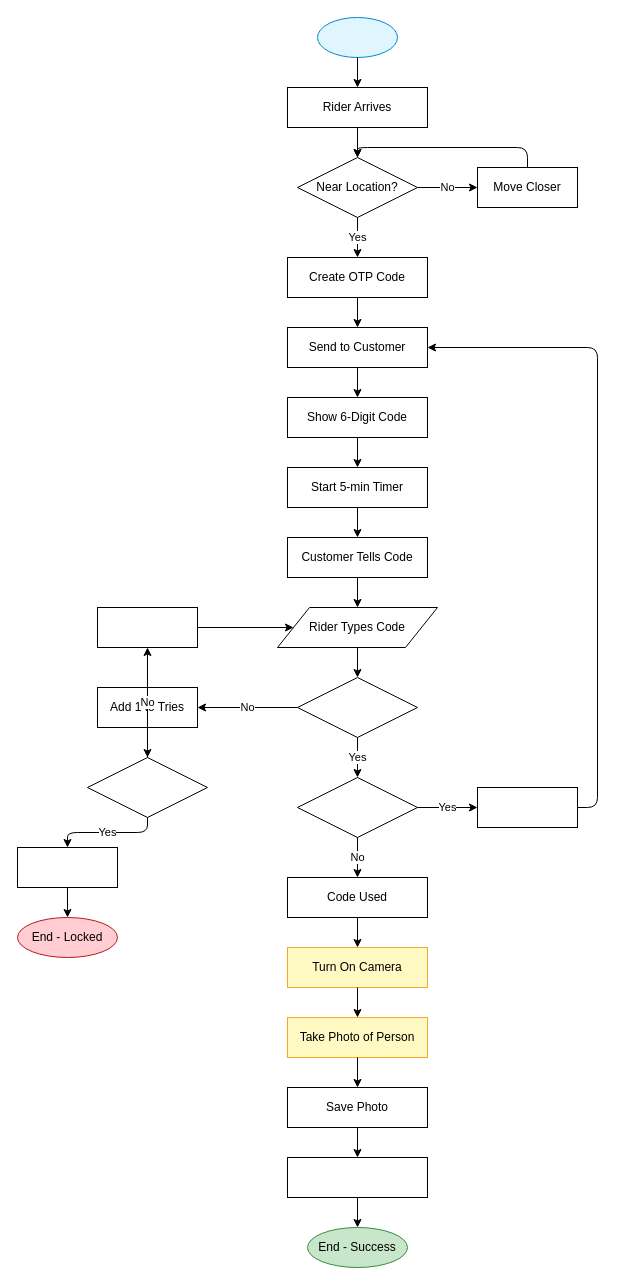
This 623x1285 diagram has some shape labels left out. The shapes that lost their labels are listed below. From the top down, each one's centre as x and y in pixels, then its label:
(x=357, y=37): Start
(x=147, y=627): Wrong Code
(x=357, y=707): Correct?
(x=147, y=787): Tried 3 Times?
(x=357, y=807): Time Up?
(x=527, y=807): New Code
(x=67, y=867): Wait 5 mins
(x=357, y=1177): Unlock Box
